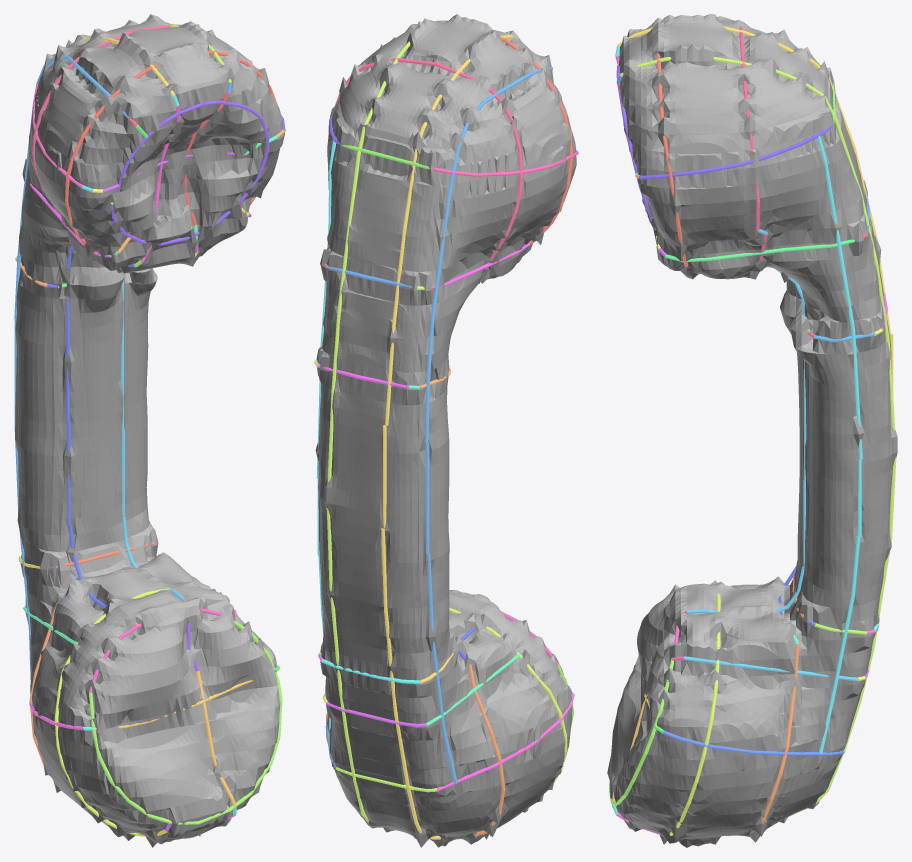
The model's file is flowrep_phone.gltf.
3 renders of one model, left to right at view 1: azimuth 30°, elevation 25°; view 2: azimuth 150°, elevation 25°; view 3: azimuth 270°, elevation 25°, orthographic.
Size of the model in its own units: 0.2691 by 0.9408 by 0.3071.
